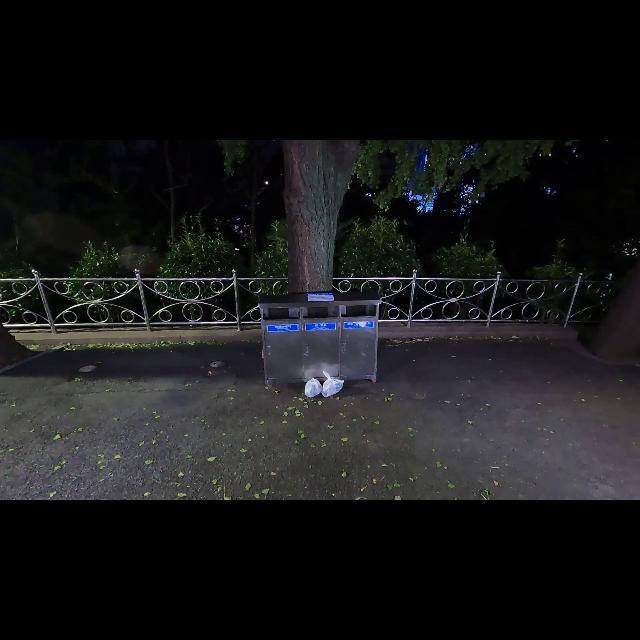trash: (320, 370, 346, 400), (304, 377, 324, 399)
